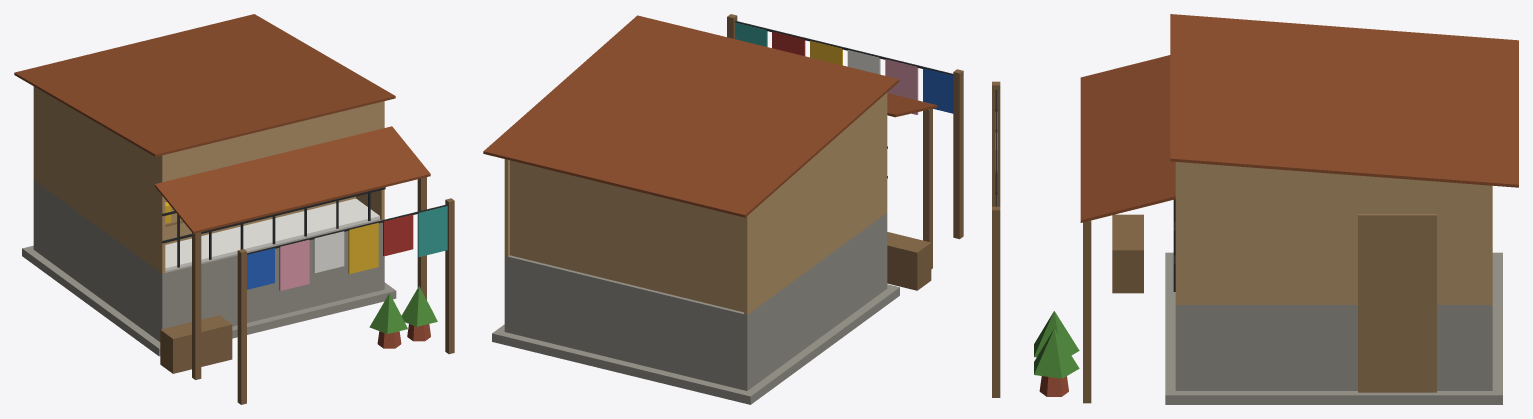
Rendered from BAY_I_SariSari_D.glb.
3 views of the same model, side by side, from view 1: azimuth 30°, elevation 25°; view 2: azimuth 150°, elevation 25°; view 3: azimuth 270°, elevation 25° (orthographic). The views are drawn at different scales.
Parts seen in each view (by area): view 1: BAY_I_SariSari_D; view 2: BAY_I_SariSari_D; view 3: BAY_I_SariSari_D.
Boxes of the visible parts, box(x1,y1,x2,y2) form: BAY_I_SariSari_D: box(14, 14, 454, 404); BAY_I_SariSari_D: box(483, 14, 963, 404); BAY_I_SariSari_D: box(992, 14, 1518, 404).
Size of the model in its own units: 3.32 by 2.58 by 4.99.
Materials: 1 (1 with a texture image).
